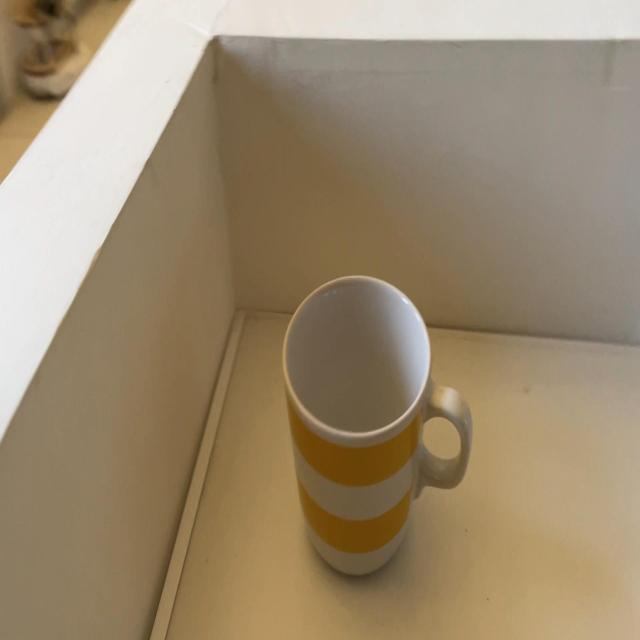cup: (282, 280, 478, 578)
